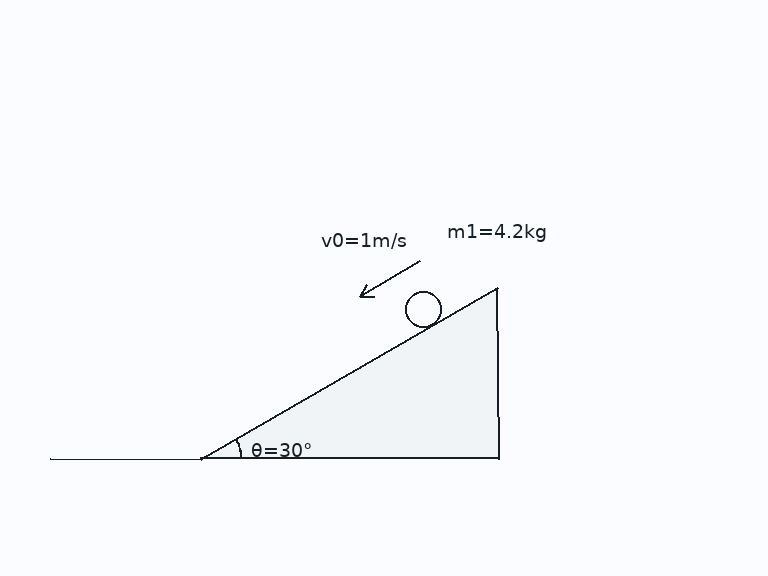ball: (403, 289, 443, 329)
ramp: (199, 285, 499, 460)
